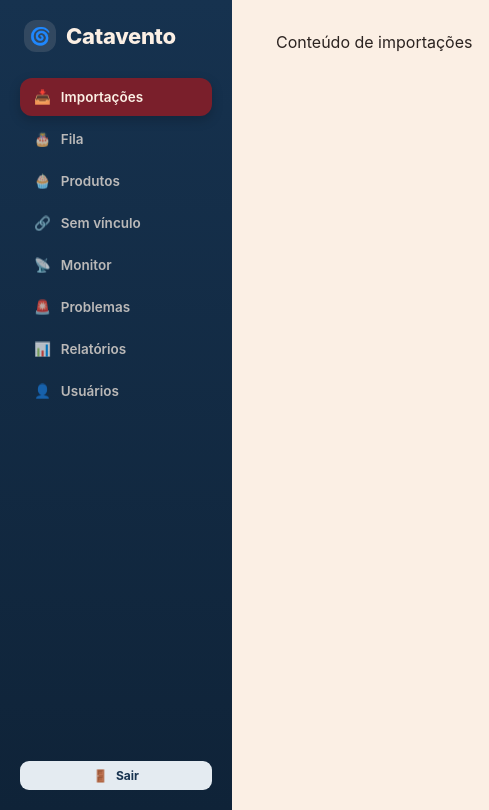
Scenario: AppShell › navega para outra seção ao clicar no link da sidebar
Click the text "Fila" at (72,139), box [61, 131, 84, 147]
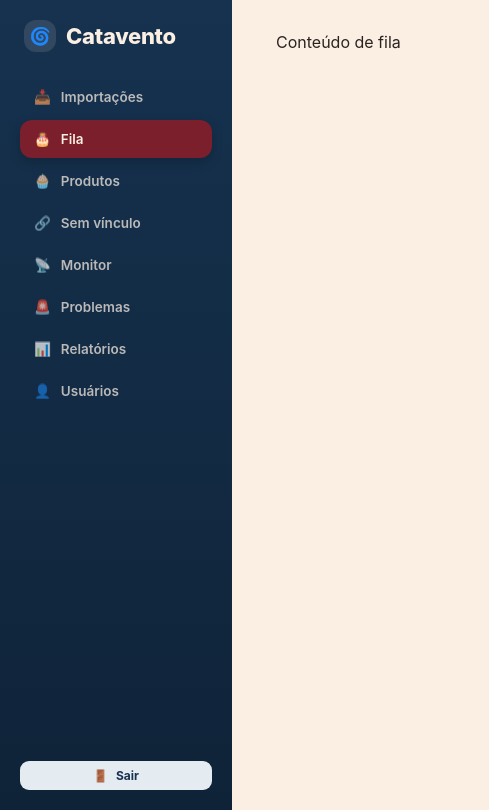
Now the text "Conteúdo de fila" is shown, box [276, 32, 401, 52]
